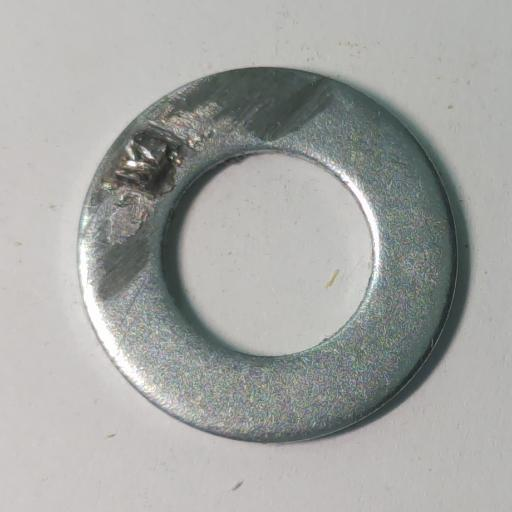excess_material: (115, 133, 182, 202), (107, 207, 147, 247)
